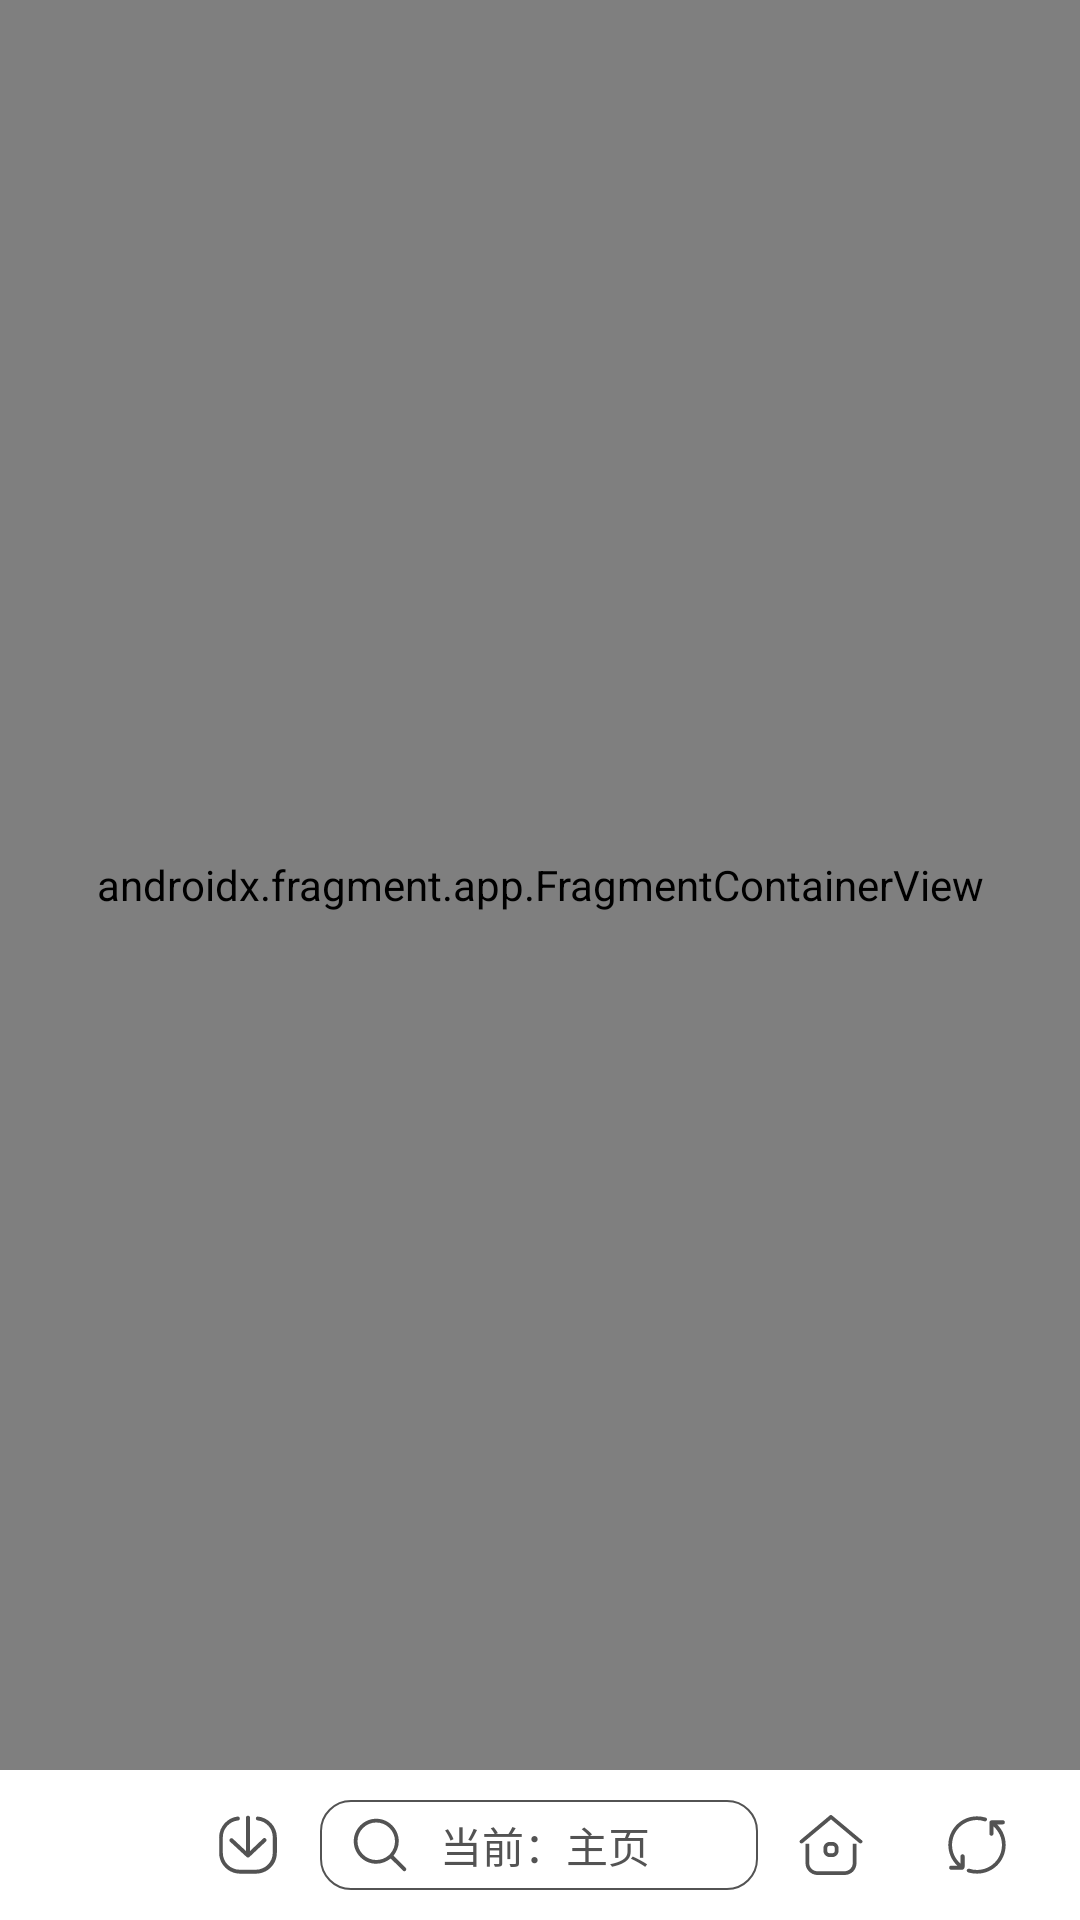

Where to tap for icons on this 1080 × 1920 app screen, as (x,y):
shouyeweixuanzhong: (831,1845)
shuayishua: (977,1845)
xiazai: (248,1844)
